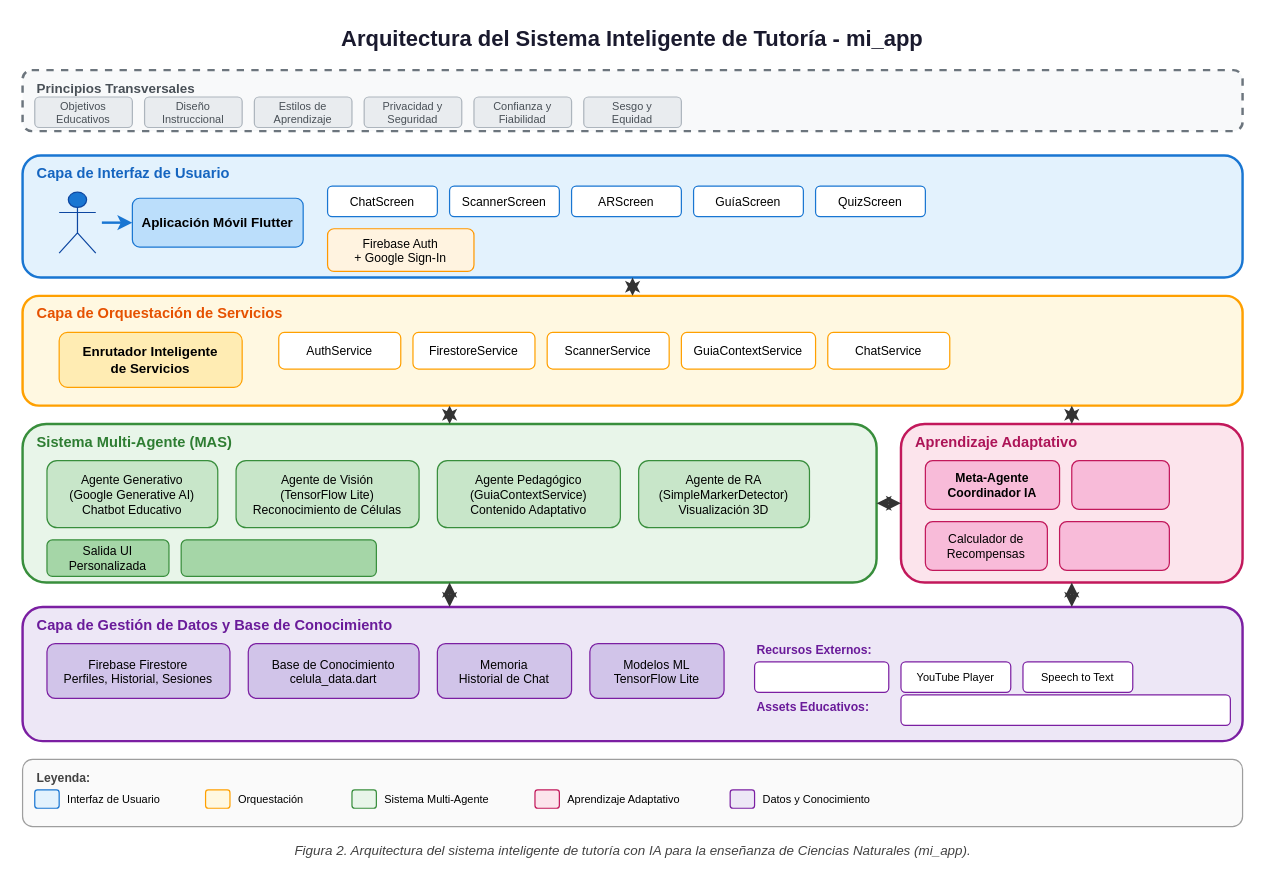
This 1264x883 diagram has some shape labels left out. The shapes that lost their labels are listed below. From the top down, each one's centre as x and y in pixels, then its label:
At (77,222): "Estudiante".
At (1120,484): "Modelo de Progreso".
At (278,557): "Gamificación (Puntos, XP, Logros, Niveles)".
At (1113,545): "Estadísticas y Logros".
At (821,676): "Google Generative AI".
At (1065,709): "assets/libro/ | assets/CELULA/ | assets/marcadores/ | assets/models/".
